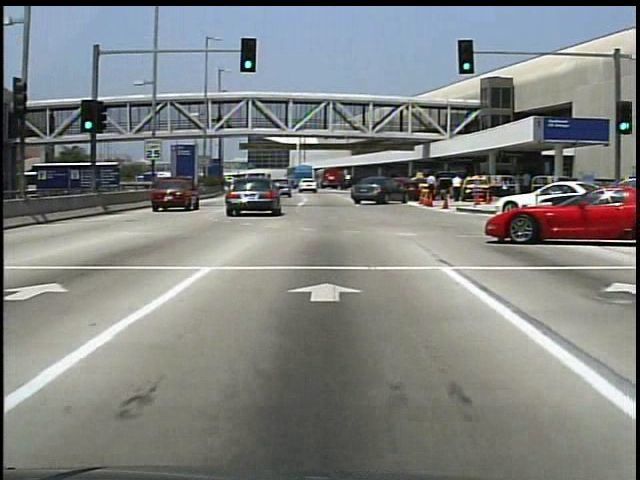person: (423, 171, 440, 206), (498, 176, 513, 210), (451, 174, 467, 203), (519, 174, 532, 195), (216, 114, 226, 132)
